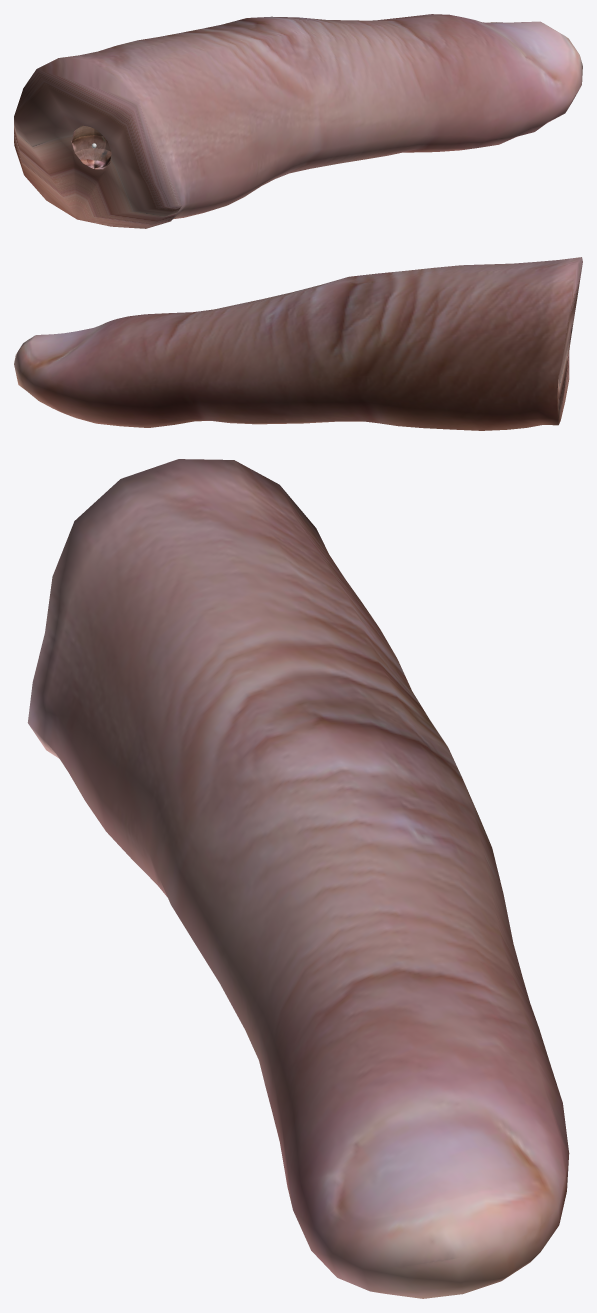
3 views of the same model, one above another, from view 1: azimuth 30°, elevation 25°; view 2: azimuth 150°, elevation 25°; view 3: azimuth 270°, elevation 25° (orthographic). The views are drawn at different scales.
Visible parts, largest first — view 1: finger2; view 2: finger2; view 3: finger2.
Part boxes in pixels (left/top/right/bottom): finger2: left=14, top=14, right=582, bottom=228; finger2: left=14, top=257, right=582, bottom=430; finger2: left=27, top=459, right=569, bottom=1298.
Size of the model in its own units: 2.96 by 1.13 by 1.35.
1 material, 1 textured.
